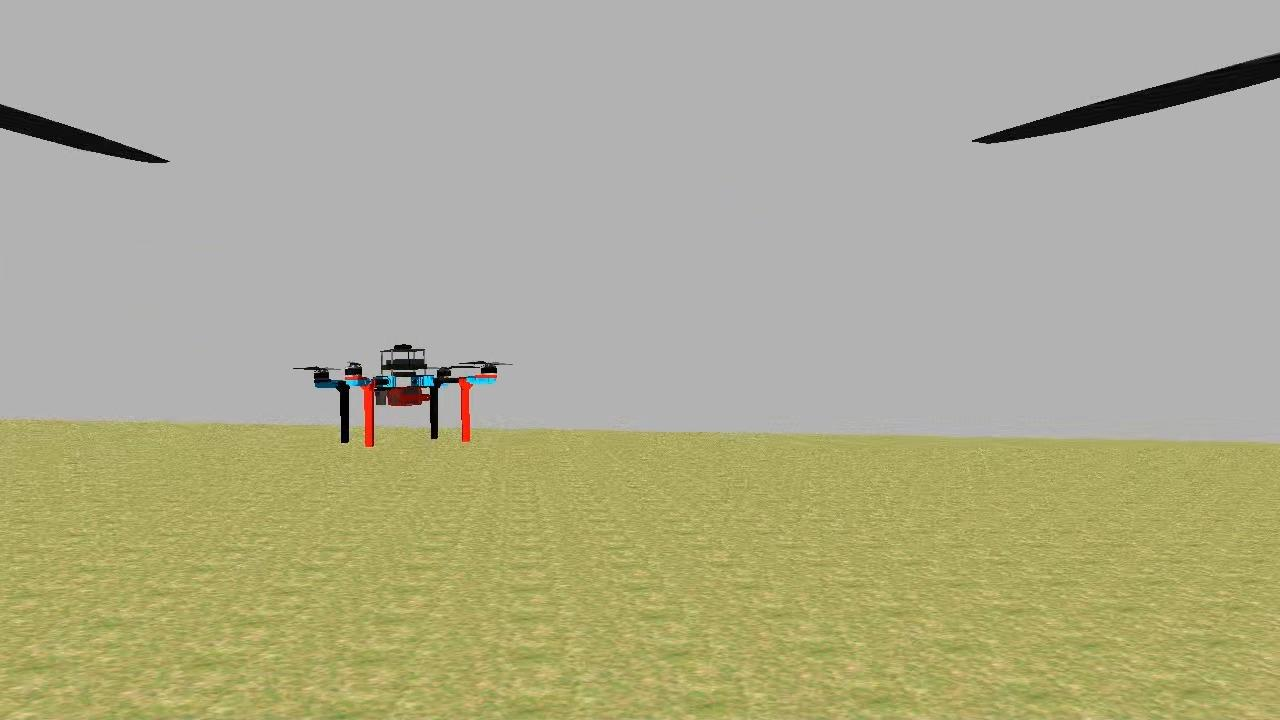UAV: (306, 336, 504, 454)
